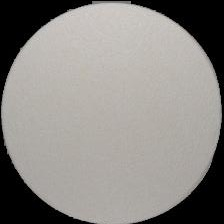54868-1328: (0, 0, 224, 224)
